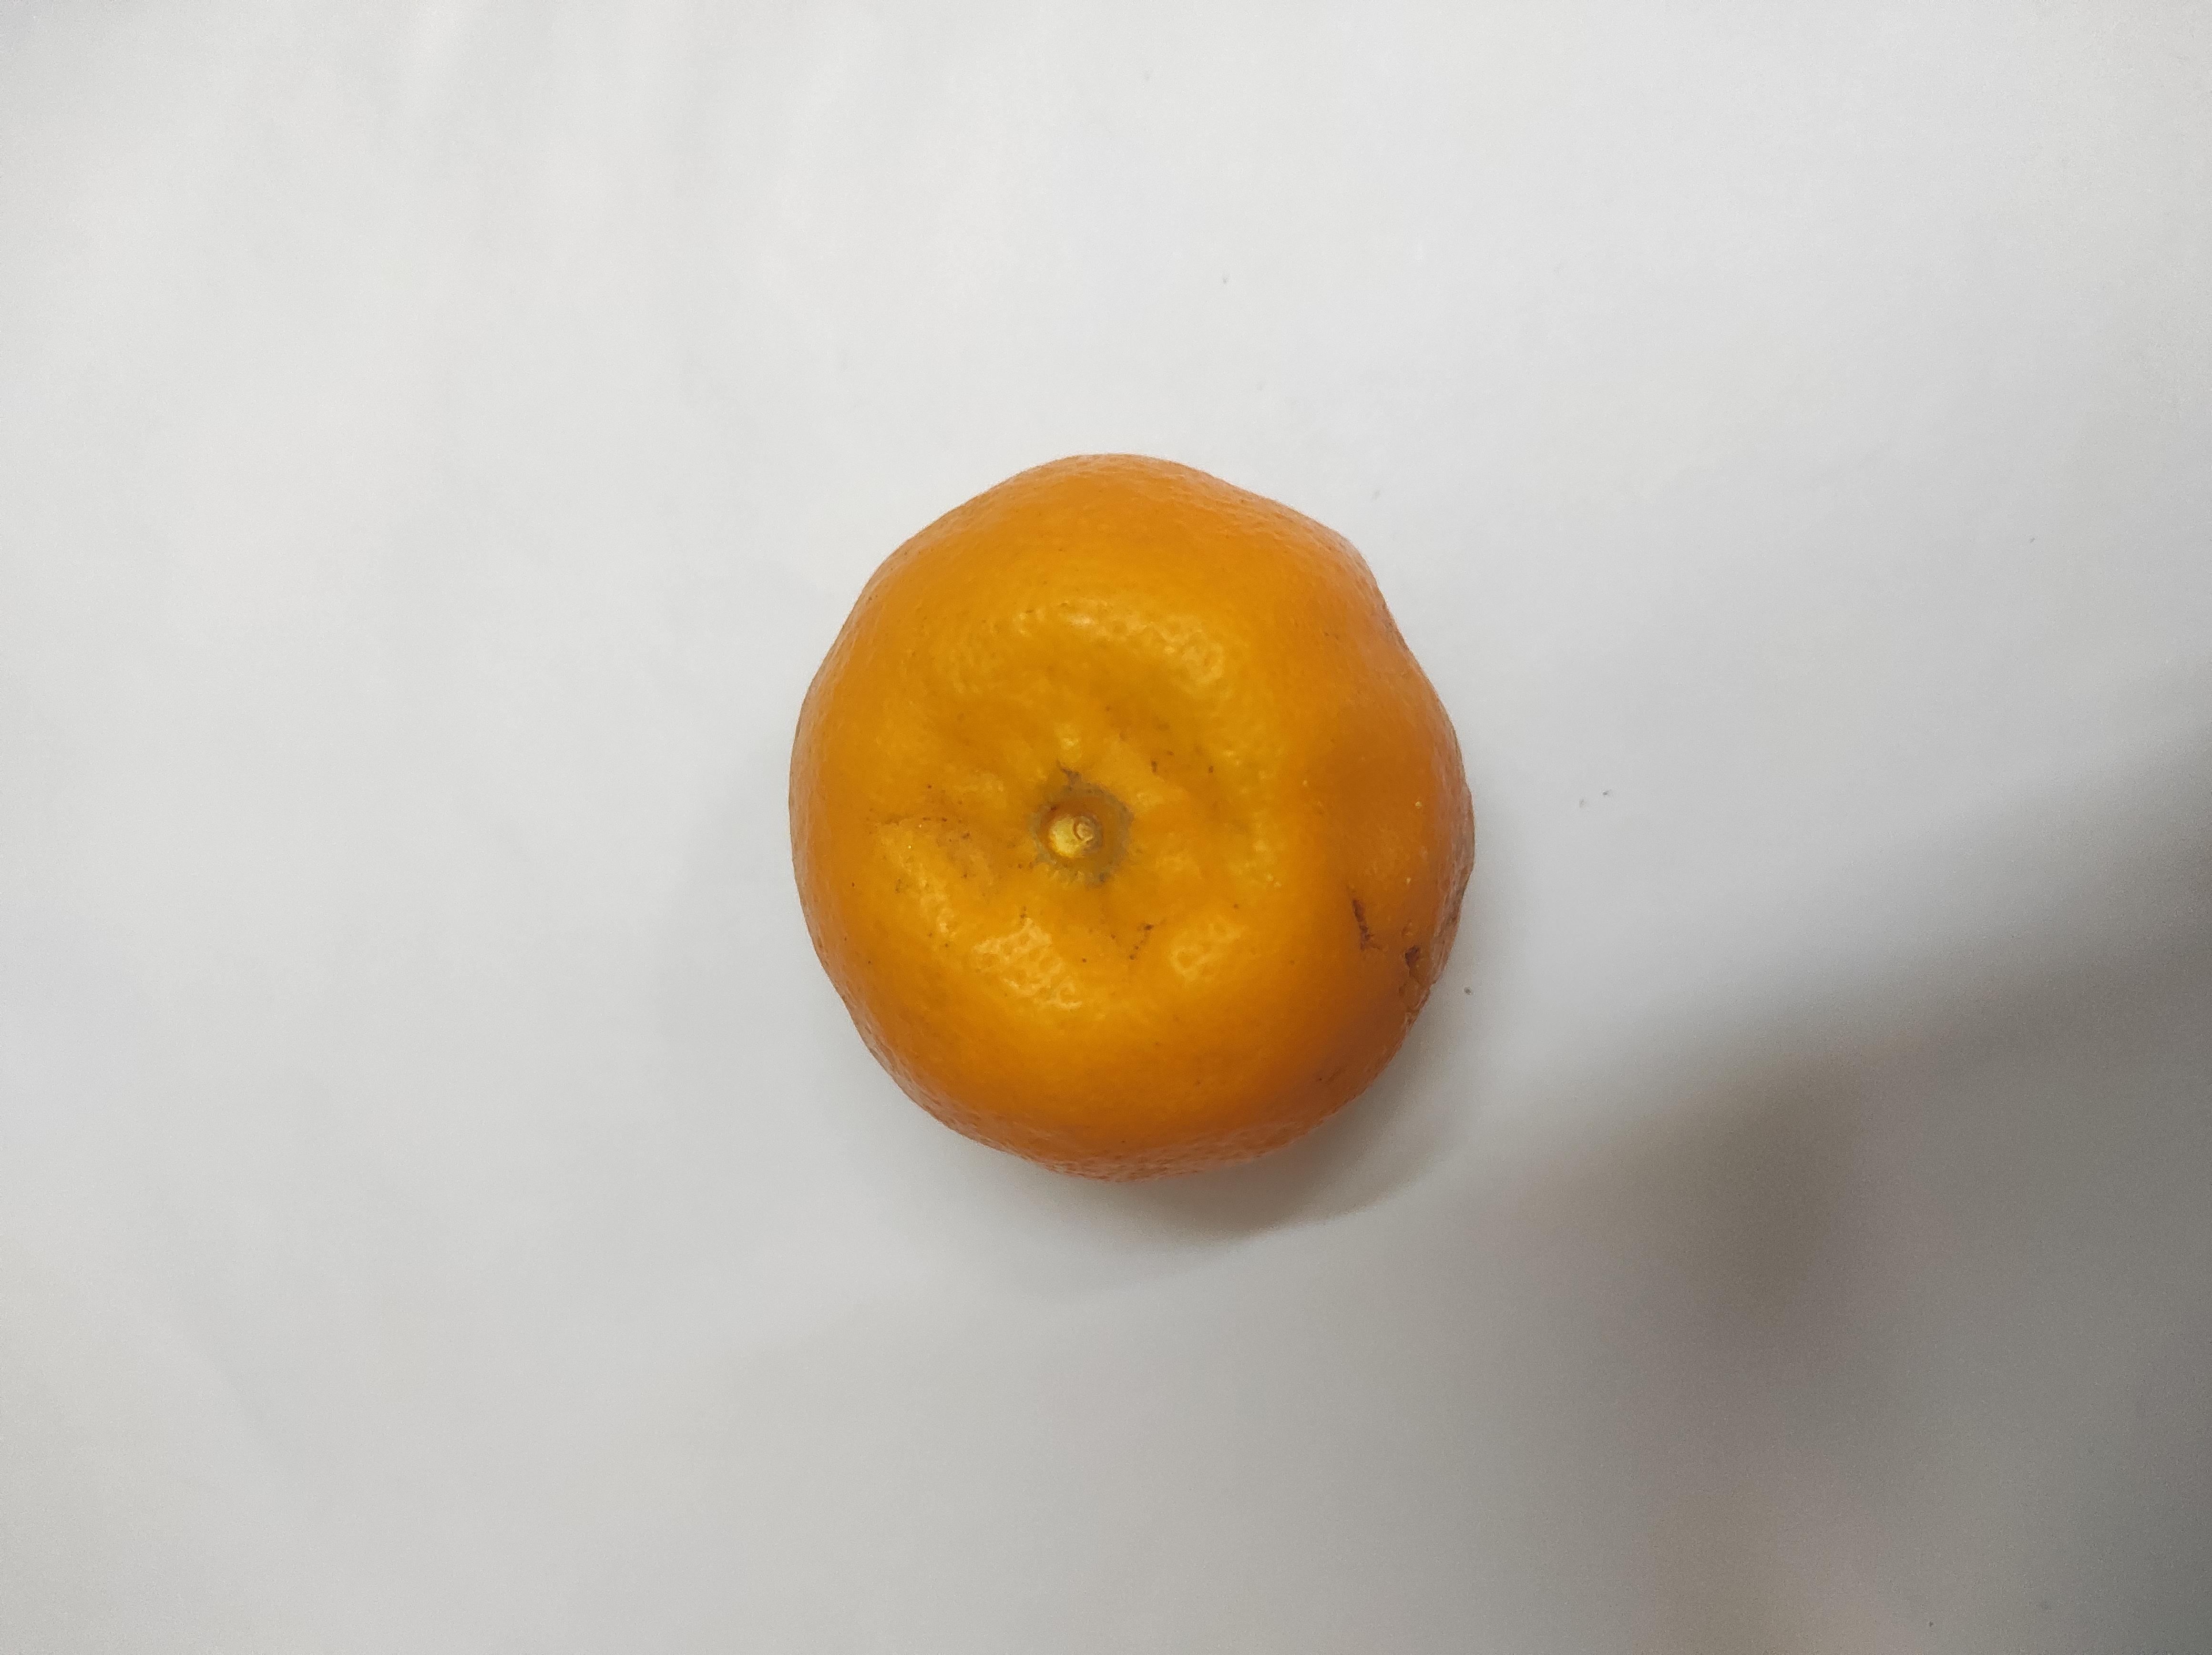Unripe: (802, 457, 1473, 1173)
